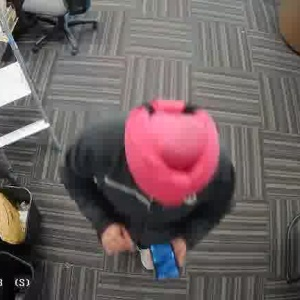person: (57, 116, 238, 273)
